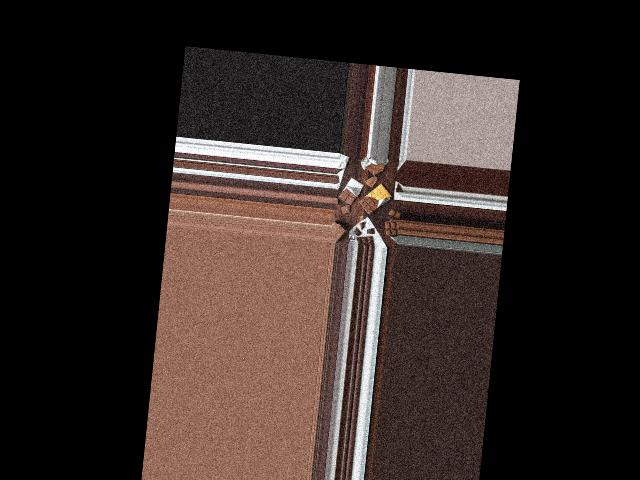chocolate: (335, 177, 364, 206)
